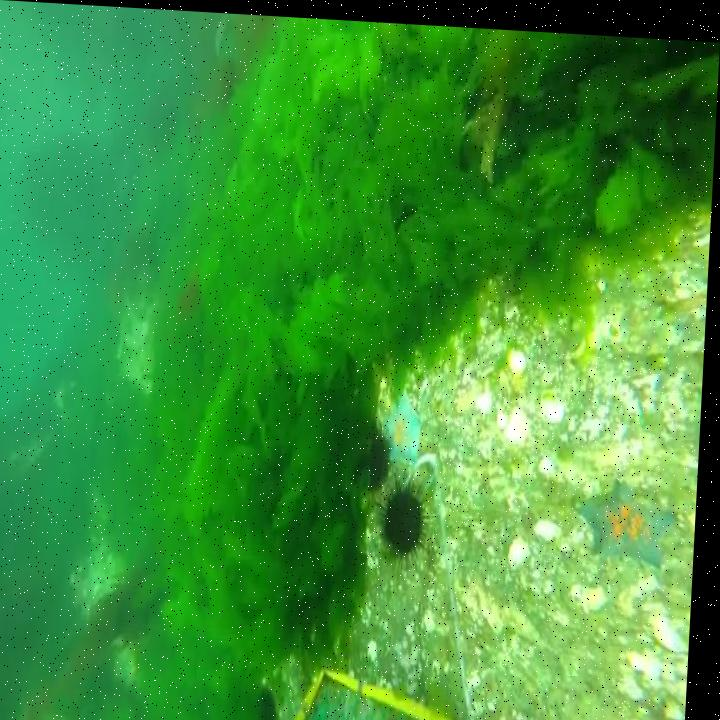echinus: (379, 472, 437, 576), (368, 425, 394, 483), (260, 682, 283, 720)
scallop: (655, 601, 696, 643), (544, 385, 570, 416), (513, 533, 535, 564), (510, 339, 530, 369), (538, 513, 566, 534)
starfish: (575, 474, 683, 564), (389, 392, 426, 463)
